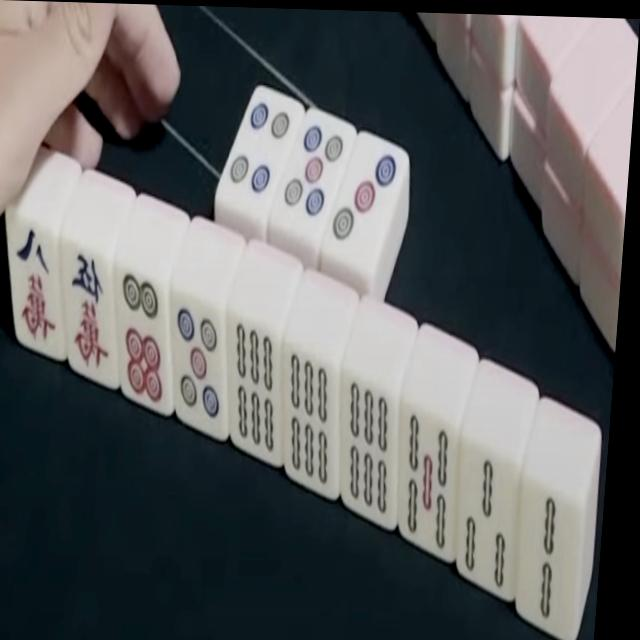m5: (47, 244, 125, 367)
m8: (0, 217, 73, 356)
s2: (499, 481, 593, 630)
s3: (442, 451, 525, 600)
s5: (388, 409, 467, 559)
s6: (269, 351, 347, 497), (329, 378, 406, 525), (214, 317, 290, 461)
t3: (322, 129, 406, 259)
t4: (217, 89, 300, 210)
t5: (154, 293, 235, 434), (283, 117, 346, 227)
t6: (103, 261, 182, 392)
